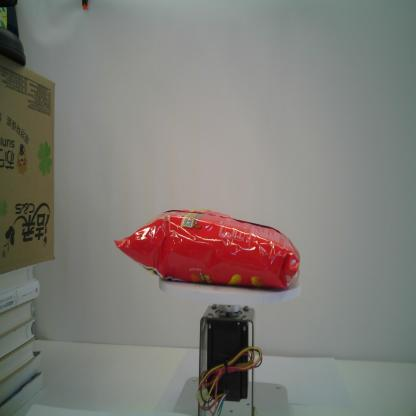Puffed Food: (112, 207, 302, 292)
